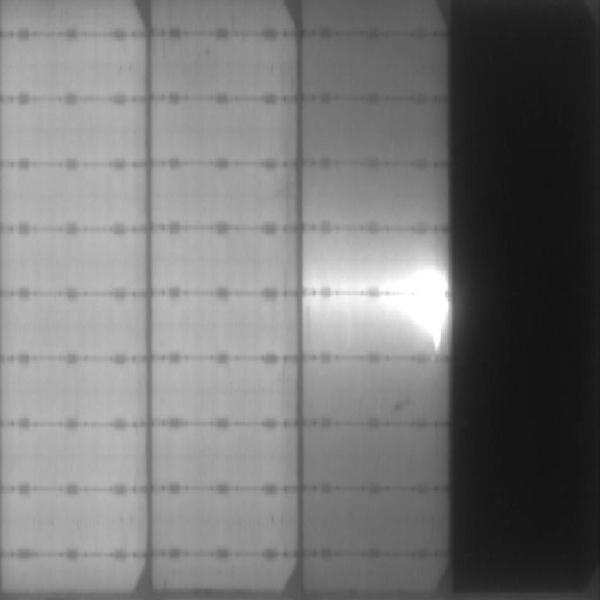hot_spot: (382, 272, 449, 296), (385, 298, 449, 322), (425, 327, 444, 350)
no_electricity: (448, 1, 600, 600)
